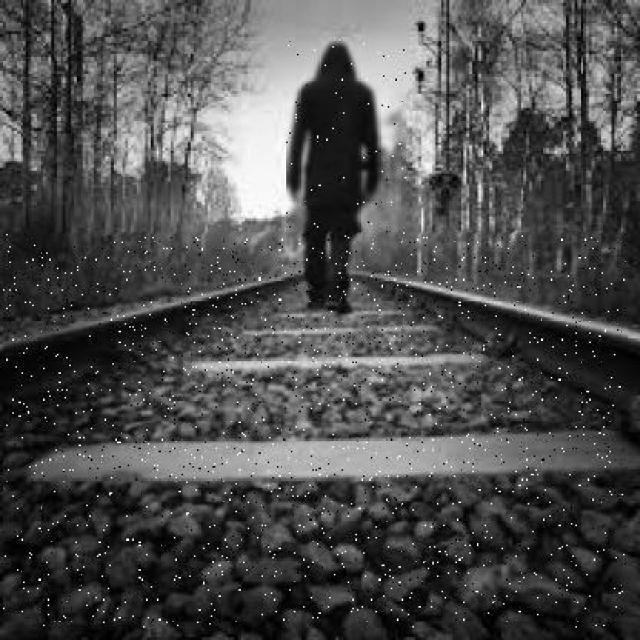rail: (5, 235, 627, 629)
